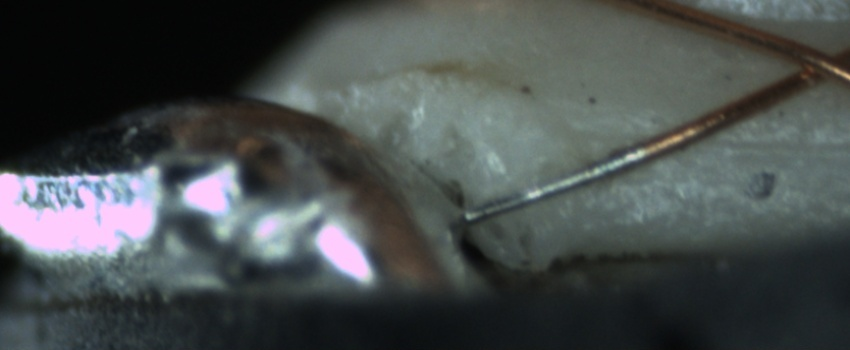CL: (775, 36, 848, 92)
DL: (585, 115, 850, 174)
TS: (466, 147, 645, 221)
